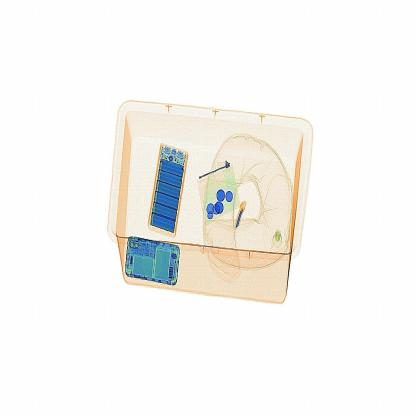wrench: (231, 195, 254, 236)
